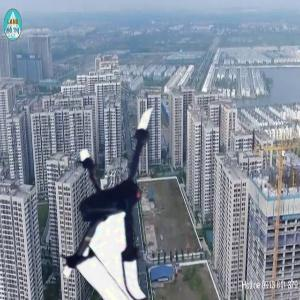drone: (29, 109, 215, 295)
